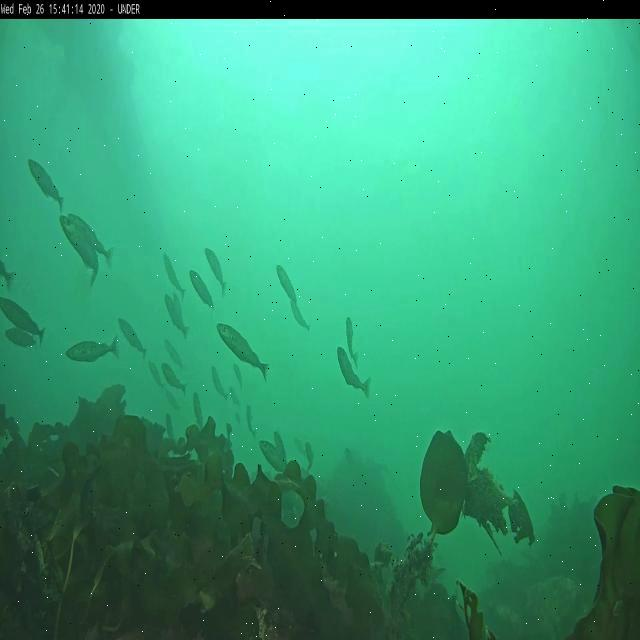fish: (218, 324, 270, 380), (58, 218, 98, 280), (331, 354, 371, 400), (28, 160, 66, 208), (0, 297, 42, 339), (68, 340, 119, 362), (118, 318, 146, 354), (206, 248, 226, 296), (160, 360, 187, 392), (163, 256, 184, 295), (192, 271, 213, 310), (7, 329, 40, 352), (164, 302, 184, 337), (276, 266, 294, 302), (272, 431, 289, 467), (210, 367, 227, 400), (175, 293, 188, 336), (292, 303, 310, 329), (149, 362, 163, 390), (1, 264, 18, 287), (346, 315, 354, 358), (193, 392, 202, 425), (306, 444, 316, 472), (246, 403, 254, 432), (233, 366, 241, 386), (230, 387, 238, 405)
